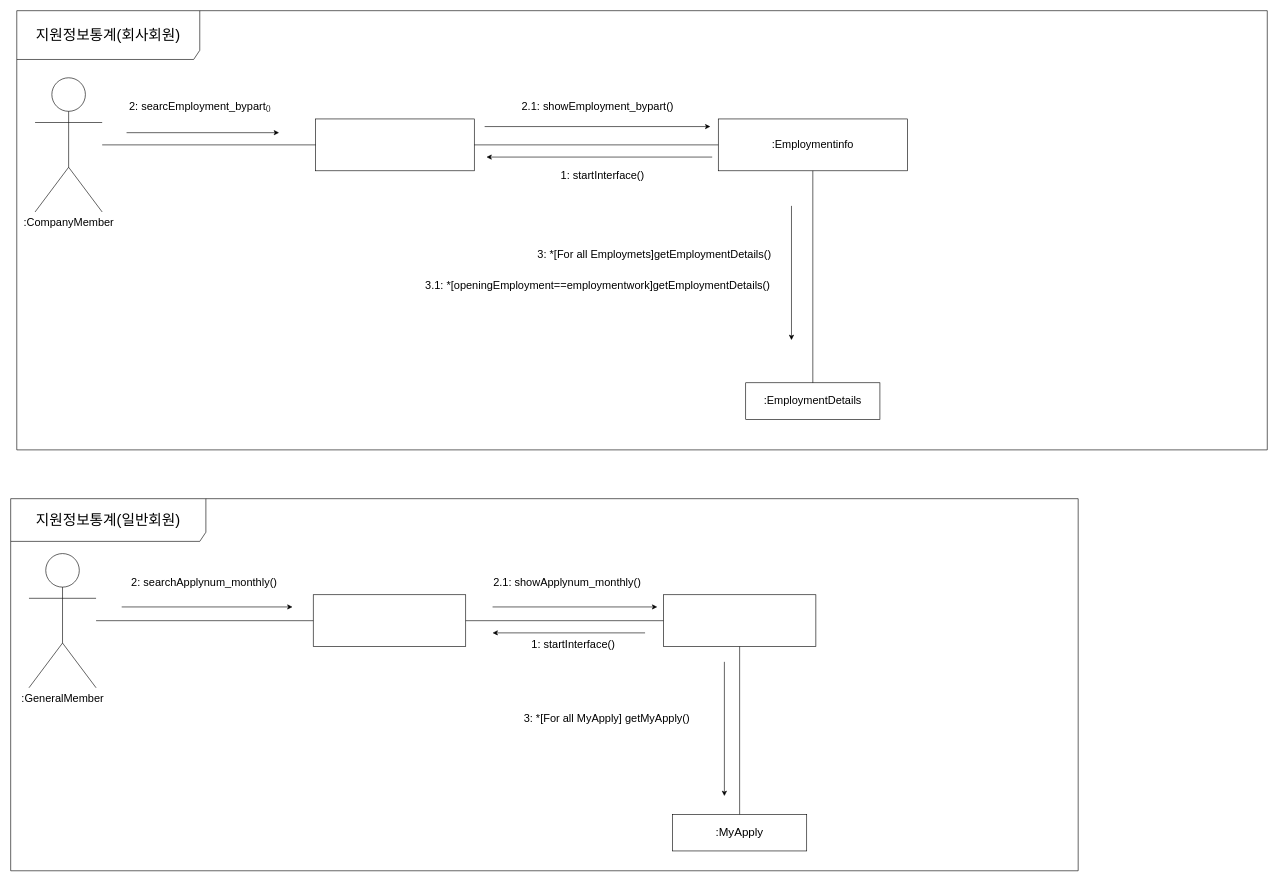
Image size: 1278x881. Some labels were removed from this diagram. Each missing label, with the centre of its shape:
: EmploymentInquiryAndApply: (739,620)
:EmploymentinfoUI: (394,144)
:EmploymentInquiryAndApplyUI: (389,620)
